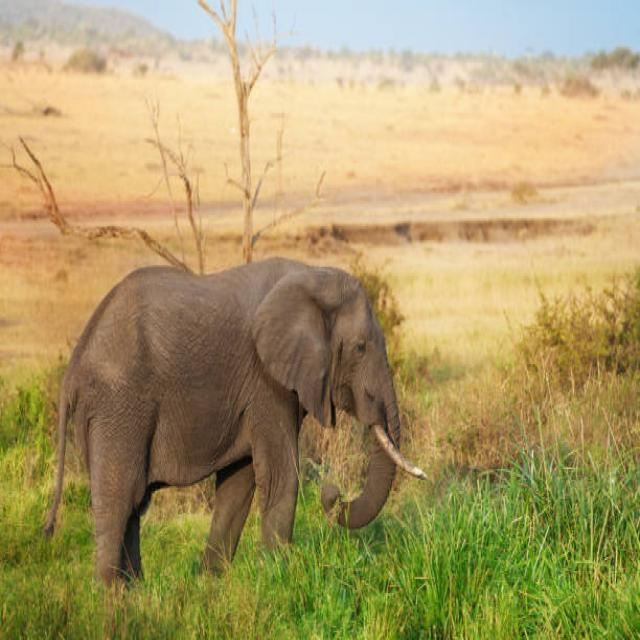Elephant: (25, 237, 438, 612)
